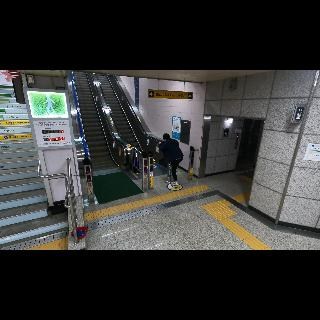normal: (156, 132, 184, 186)
